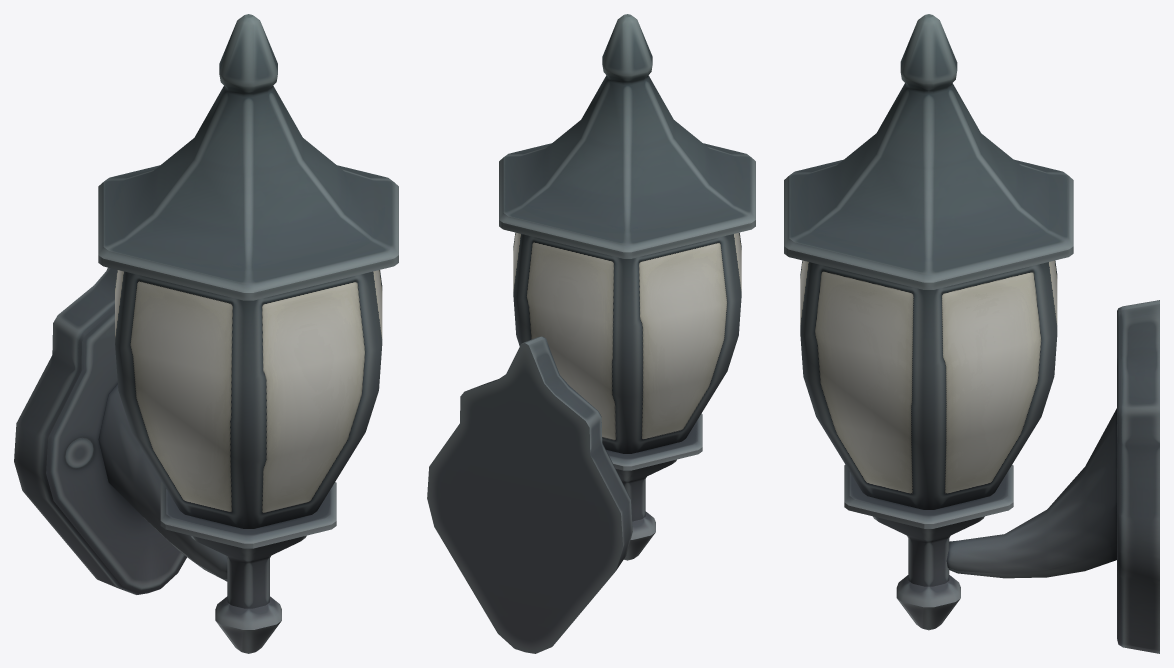
The model's file is StreetLampWall01_2.FBX.
3 views of the same model, side by side, from view 1: azimuth 30°, elevation 25°; view 2: azimuth 150°, elevation 25°; view 3: azimuth 270°, elevation 25° (orthographic). The views are drawn at different scales.
Visible parts, largest first — view 1: StreetLampWall01_2; view 2: StreetLampWall01_2; view 3: StreetLampWall01_2.
Boxes of the visible parts, bbox=[...] form: StreetLampWall01_2: bbox=[14, 14, 398, 653]; StreetLampWall01_2: bbox=[427, 14, 755, 653]; StreetLampWall01_2: bbox=[784, 14, 1159, 653].
Size of what is drawn, in the model's own units: 0.392 by 0.8326 by 0.4478.
